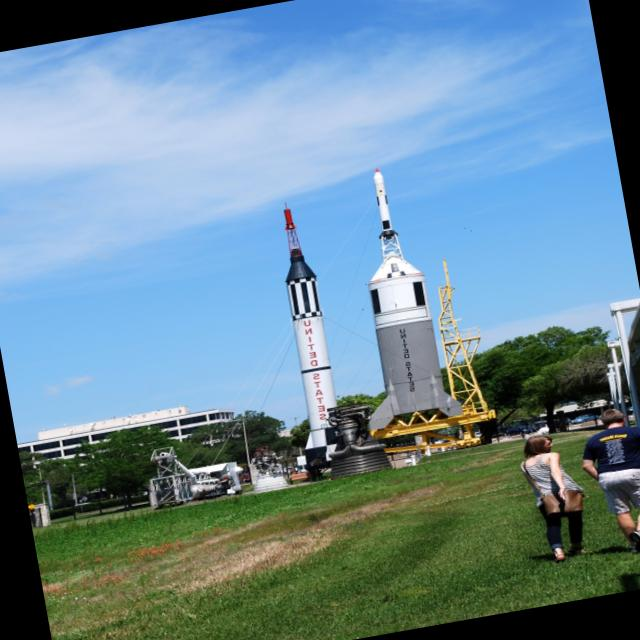rocket: (266, 205, 357, 444), (364, 162, 409, 259)
